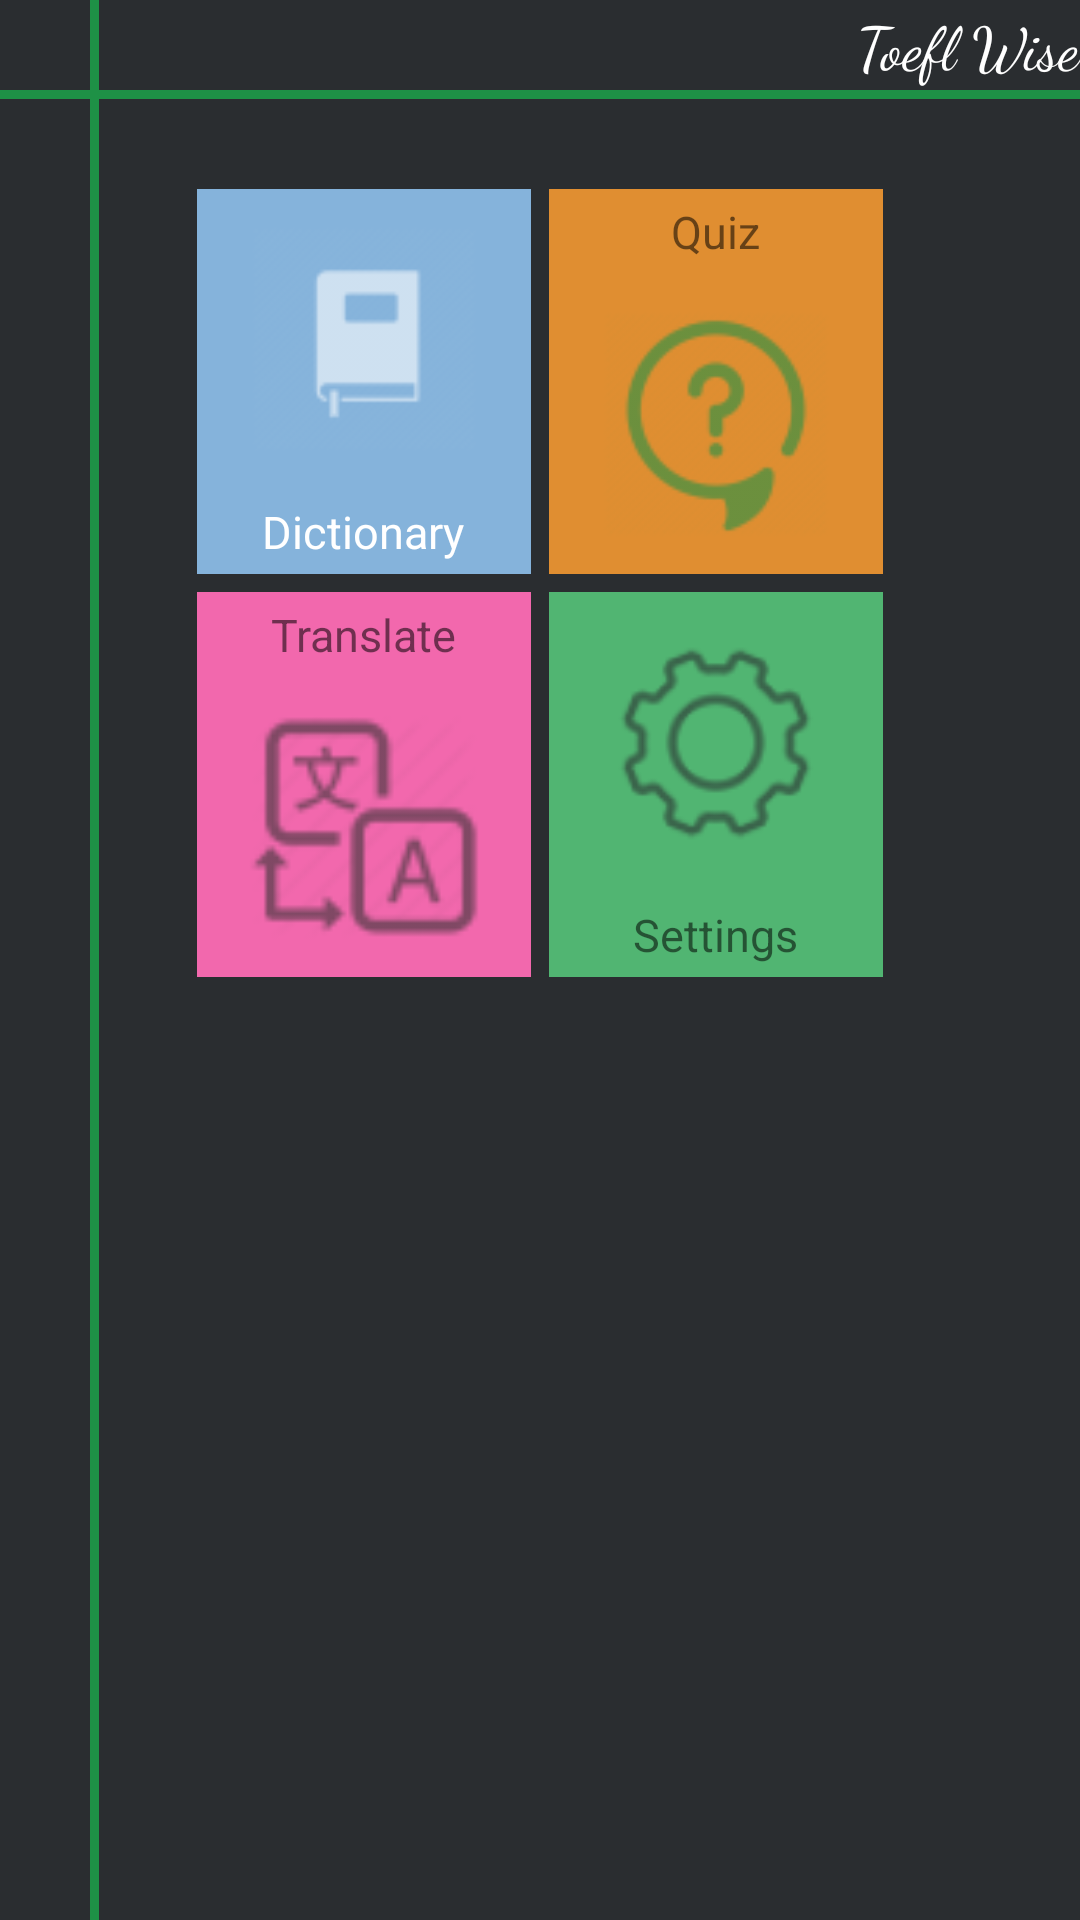

Icon click points for this 1080 × 1920 phone screenshot, format [x,y]:
config: [716,743]
